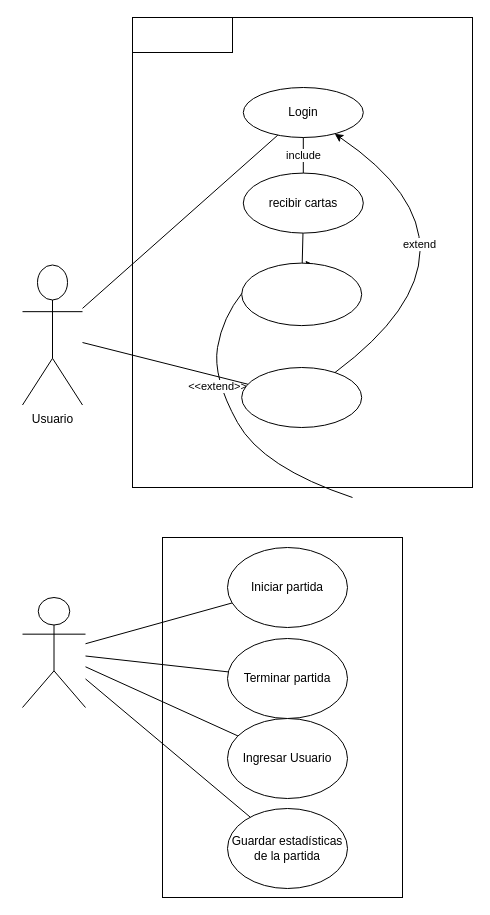
This 490x915 diagram has some shape labels left out. Here are the shapes that lost their labels. From the top down, the centre of each, then its label:
point 182,34: Juego
point 301,294: tirar cartas
point 301,397: Registrarse
point 54,652: Administrador
